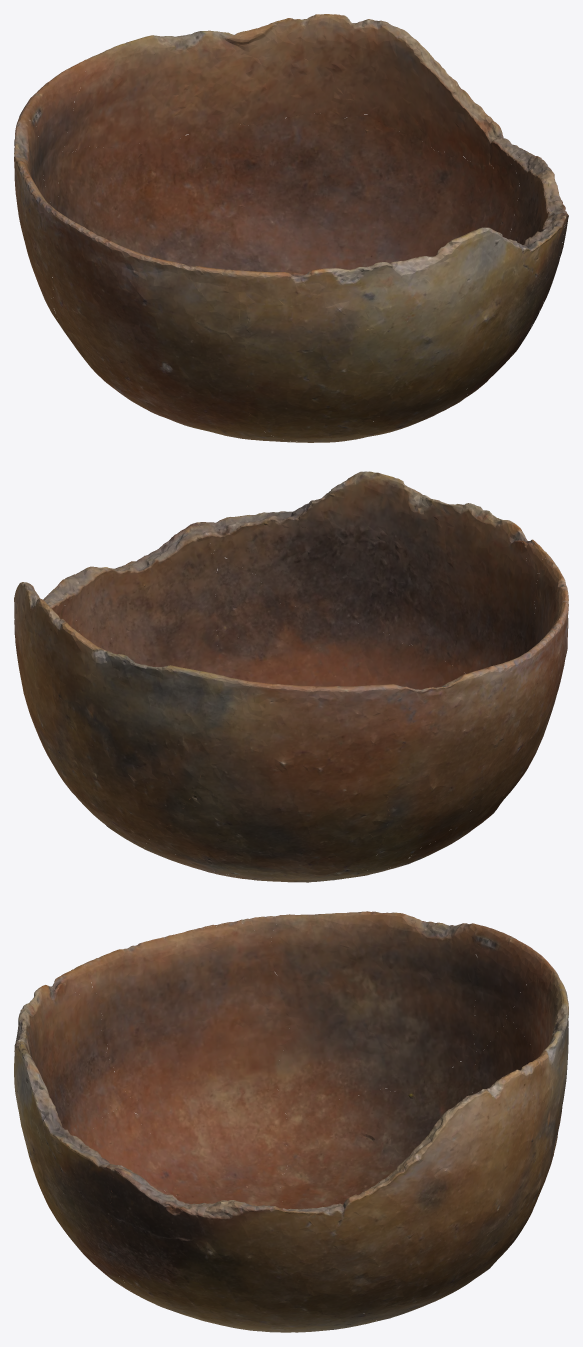
File: Objeto_01-f-02.glb
3 views of the same model, one above another, from view 1: azimuth 30°, elevation 25°; view 2: azimuth 150°, elevation 25°; view 3: azimuth 270°, elevation 25° (orthographic). The views are drawn at different scales.
Parts seen in each view (by area): view 1: Mesh_0; view 2: Mesh_0; view 3: Mesh_0.
Boxes of the visible parts, <box> form: Mesh_0: <box>14,14,568,442</box>; Mesh_0: <box>14,471,568,882</box>; Mesh_0: <box>14,911,568,1332</box>.
Size of the model in its own units: 0.2662 by 0.1471 by 0.2604.
1 material, 1 textured.
